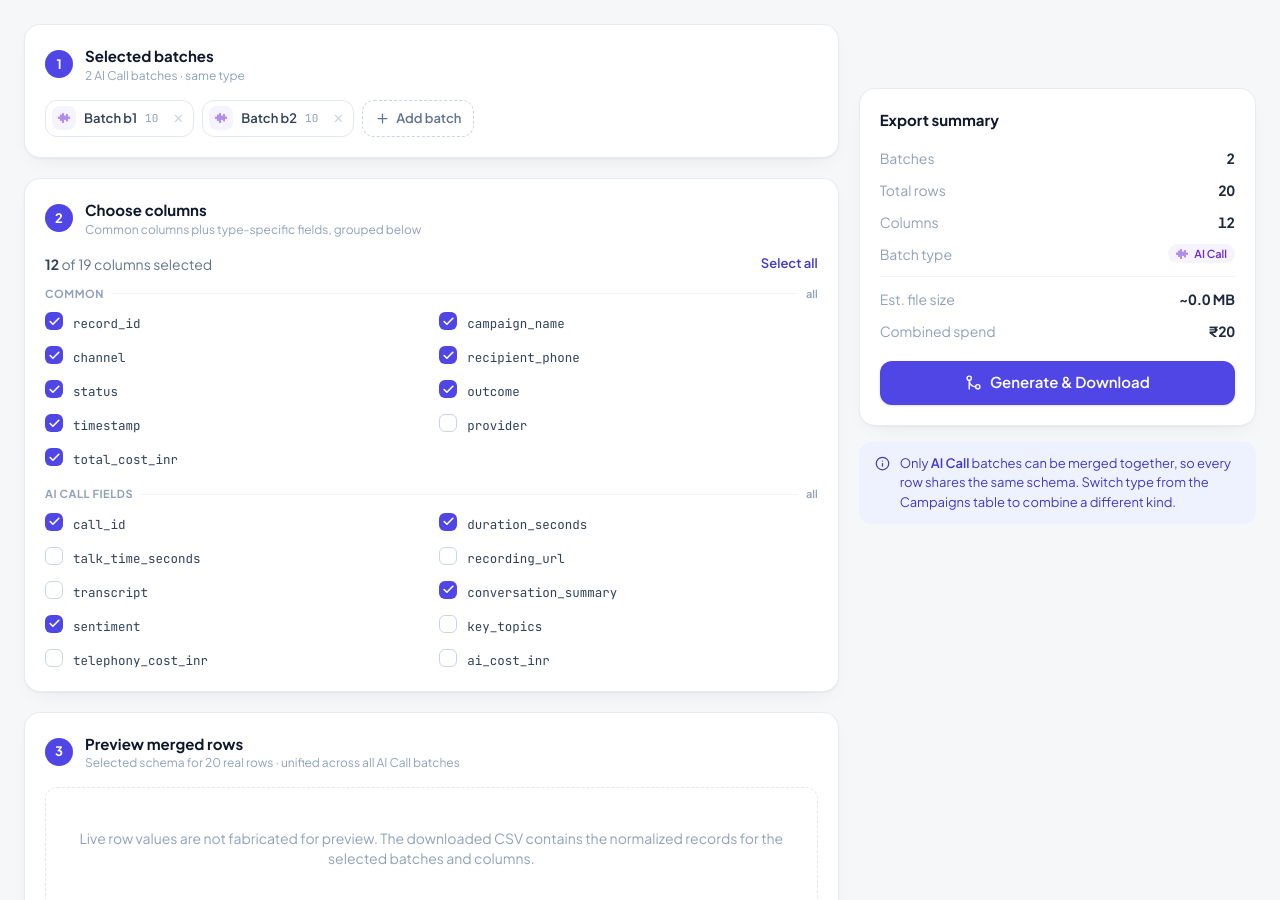
Test: CombineScreen — completed download flow › says when a batch carries records from an earlier load
This screenshot has width=1280, height=900.
Step 1. Click the button "Generate & Download" → (1057,382), box top-left (880, 360), bottom-right (1235, 404)
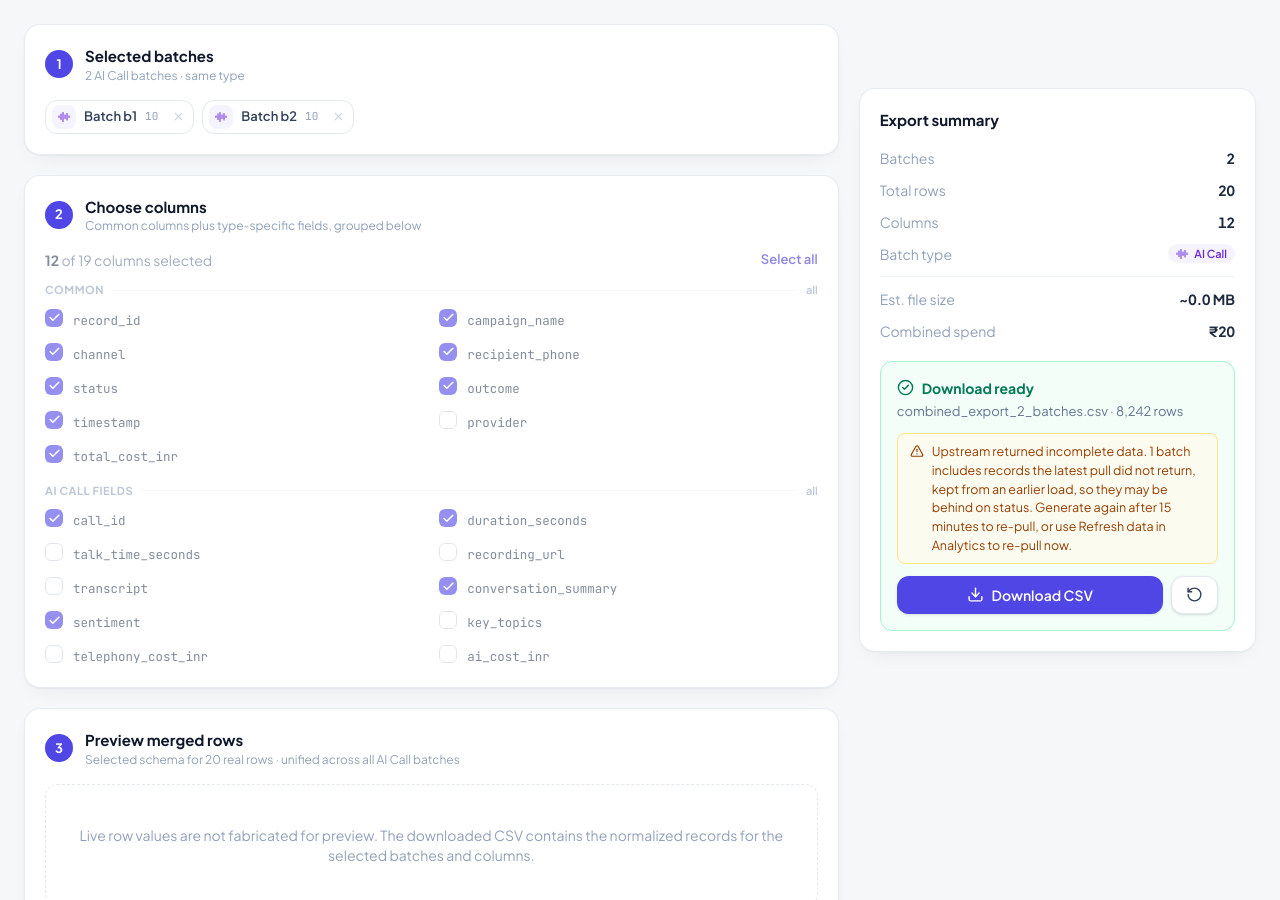
Now the message shows "1 batch includes records the latest pull did not return, kept from an earlier load", box top-left (932, 443), bottom-right (1196, 515)
